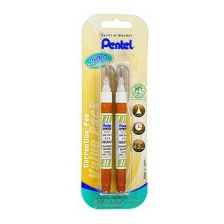correction_fluid: (111, 60, 132, 194), (97, 61, 116, 195)
